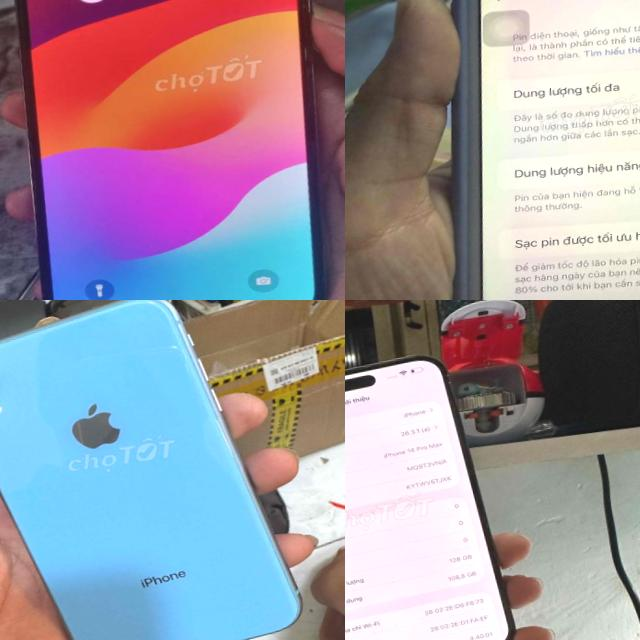scratch: (149, 329, 198, 368), (118, 300, 157, 313), (0, 349, 8, 383)
